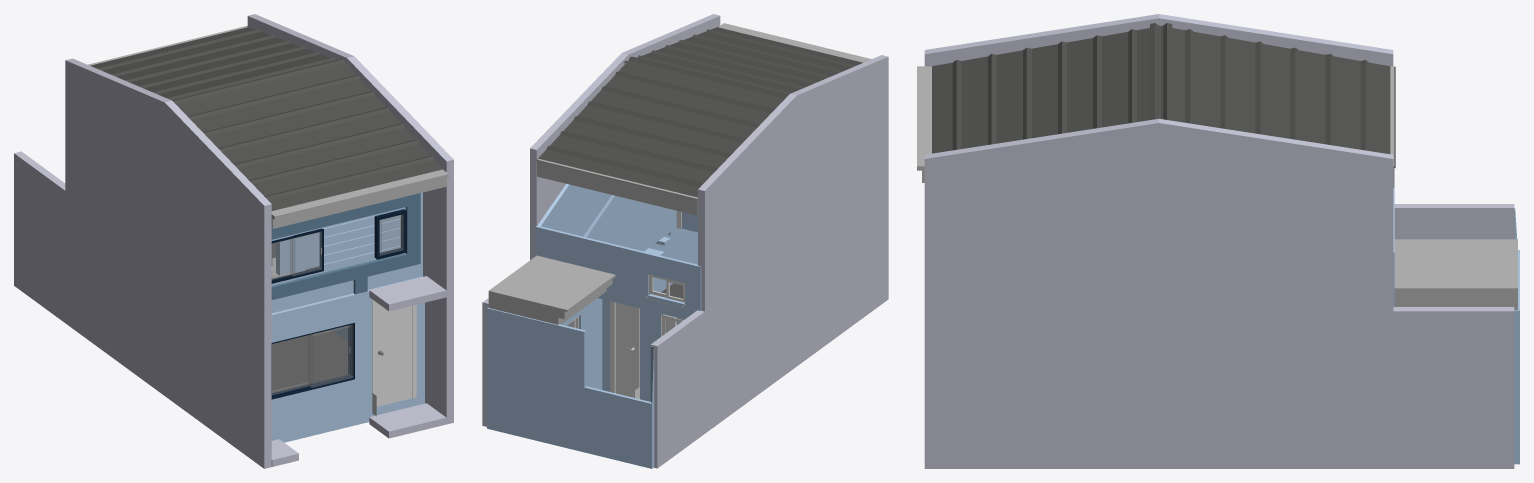
The model's file is housemodel_blue.glb.
The picture shows the model from 3 angles, left to right: view 1: azimuth 30°, elevation 25°; view 2: azimuth 150°, elevation 25°; view 3: azimuth 270°, elevation 25°; orthographic projection. The views are drawn at different scales.
Visible parts, largest first — view 1: Cube.021, Plane.009, Wall.005, wall.006, Cube.024, roof.003, Floor.004, Door.025, Window.L.026, Window.R.023, Cube.019, Cube.023 (+8 smaller); view 2: Cube.021, Plane.009, Wall.005, wall.006, Roof.006, roof.003, Door.023, DoorFrame.023; view 3: Cube.021, Plane.009, Roof.006, roof.003, Wall.005.
Part boxes in pixels (bbox=[...]): Cube.021: bbox=[14, 14, 453, 468]; Plane.009: bbox=[90, 26, 444, 210]; Wall.005: bbox=[271, 266, 424, 442]; wall.006: bbox=[271, 192, 422, 312]; Cube.024: bbox=[271, 193, 420, 299]; roof.003: bbox=[88, 26, 448, 228]; Floor.004: bbox=[272, 330, 348, 392]; Door.025: bbox=[376, 303, 412, 406]; Window.L.026: bbox=[309, 324, 353, 387]; Window.R.023: bbox=[272, 335, 310, 394]; Cube.019: bbox=[369, 403, 446, 438]; Cube.023: bbox=[369, 276, 446, 311]; Cube.021: bbox=[482, 14, 888, 468]; Plane.009: bbox=[535, 27, 862, 200]; Wall.005: bbox=[487, 228, 697, 468]; wall.006: bbox=[535, 184, 701, 319]; Roof.006: bbox=[488, 255, 615, 324]; roof.003: bbox=[537, 23, 871, 215]; Door.023: bbox=[615, 302, 634, 397]; DoorFrame.023: bbox=[610, 301, 639, 399]; Cube.021: bbox=[924, 14, 1514, 468]; Plane.009: bbox=[932, 23, 1395, 168]; Roof.006: bbox=[1394, 239, 1517, 309]; roof.003: bbox=[917, 66, 1394, 187]; Wall.005: bbox=[1514, 207, 1519, 464].
Bounding box in the file's own units: 3.86 × 5.71 × 9.02.
